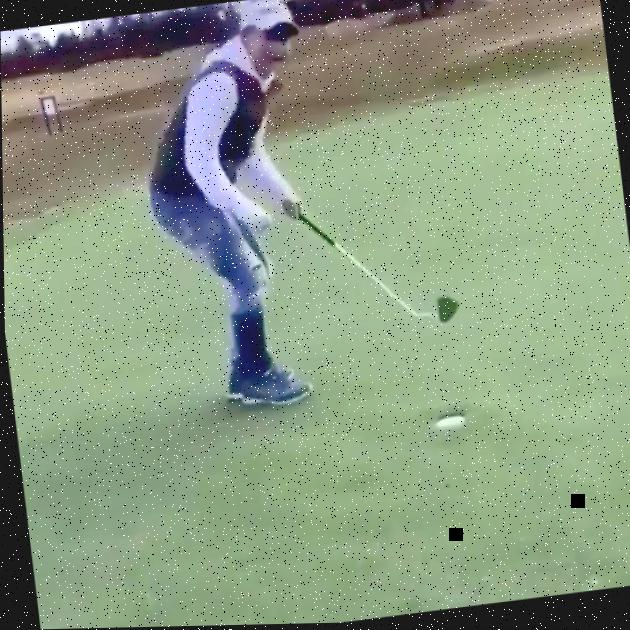ClubHead: (433, 299, 456, 325)
